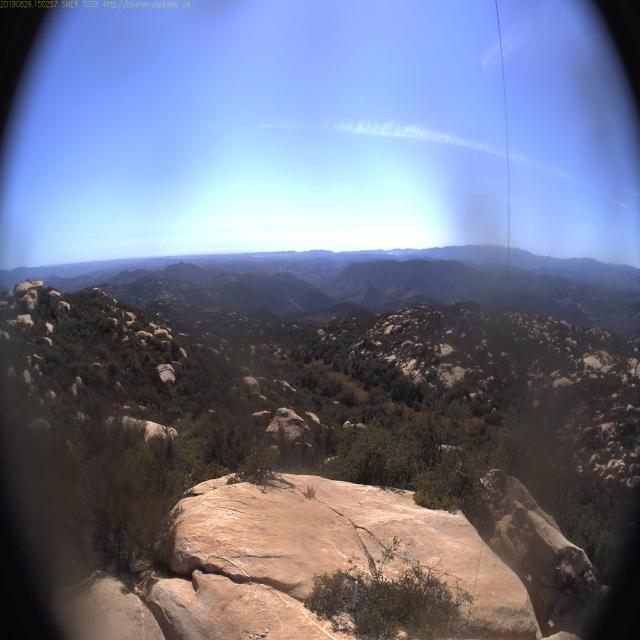smoke: (385, 246, 395, 258)
